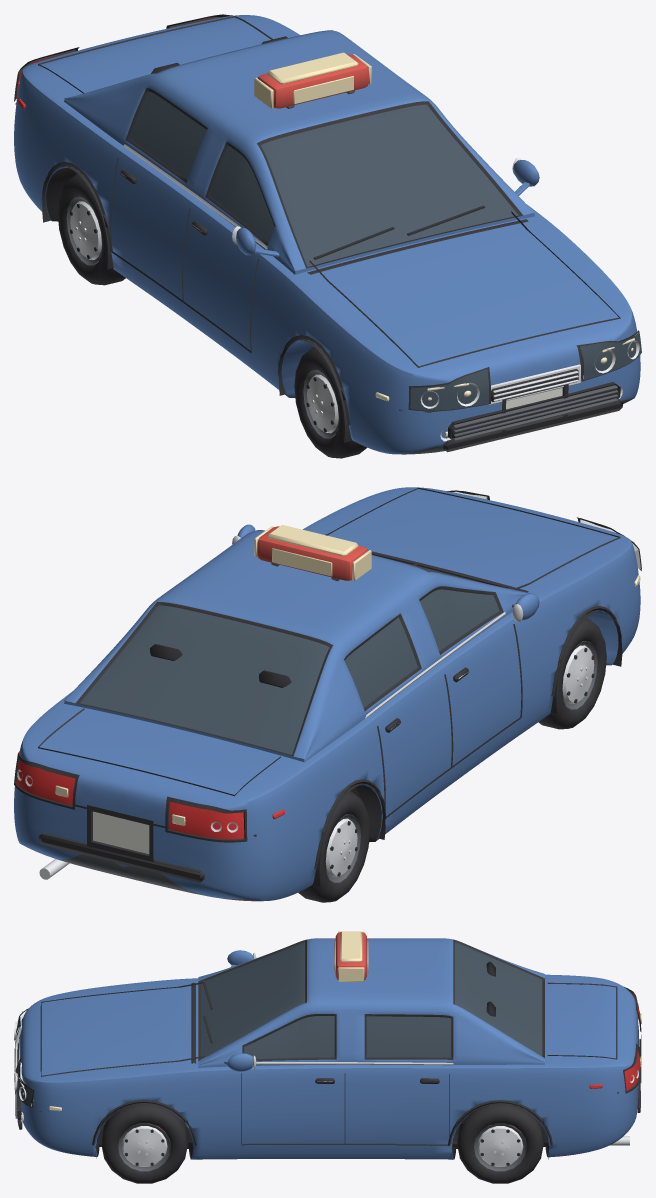
The model's file is CarV3_Cab.fbx.
The picture shows the model from 3 angles, top to bottom: view 1: azimuth 30°, elevation 25°; view 2: azimuth 150°, elevation 25°; view 3: azimuth 270°, elevation 25°; orthographic projection. The views are drawn at different scales.
Parts seen in each view (by area): view 1: CarV3_Cab; view 2: CarV3_Cab; view 3: CarV3_Cab.
Part boxes in pixels (left/top/right/bottom): CarV3_Cab: left=14, top=14, right=641, bottom=458; CarV3_Cab: left=14, top=487, right=641, bottom=902; CarV3_Cab: left=14, top=931, right=641, bottom=1183.
Bounding box in the file's own units: 1.95 × 1.63 × 4.8.
